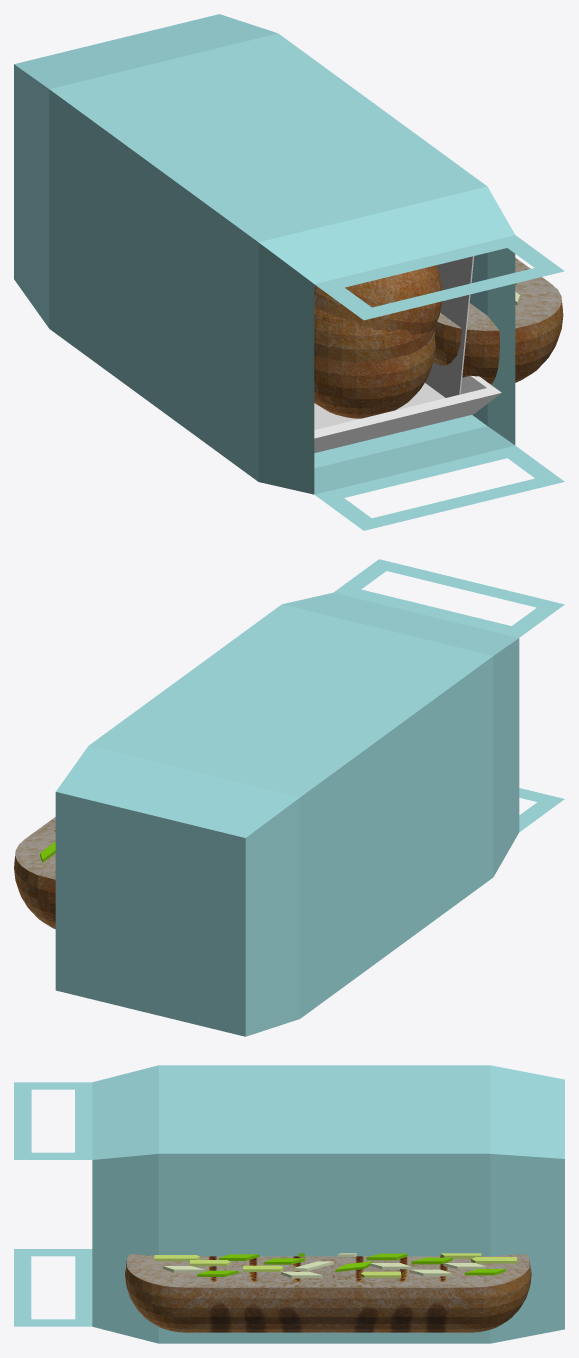
File: ShucoUltimate.fbx
3 views of the same model, one above another, from view 1: azimuth 30°, elevation 25°; view 2: azimuth 150°, elevation 25°; view 3: azimuth 270°, elevation 25° (orthographic). The views are drawn at different scales.
Visible parts, largest first — view 1: BolsaParaShuco.001, PanArriba, PanArriba.004, Plane.001, PanAbajo.002, PaperDoblado.001; view 2: BolsaParaShuco.001, PanArriba; view 3: BolsaParaShuco.001, PanArriba, Repollo.
Part boxes in pixels (left/top/right/bottom): BolsaParaShuco.001: left=14, top=14, right=564, bottom=530; PanArriba: left=384, top=257, right=563, bottom=412; PanArriba.004: left=314, top=307, right=434, bottom=418; Plane.001: left=314, top=375, right=501, bottom=452; PanAbajo.002: left=314, top=265, right=442, bottom=402; PaperDoblado.001: left=314, top=256, right=474, bottom=429; BolsaParaShuco.001: left=55, top=559, right=564, bottom=1036; PanArriba: left=14, top=817, right=55, bottom=929; BolsaParaShuco.001: left=14, top=1065, right=564, bottom=1343; PanArriba: left=125, top=1254, right=531, bottom=1332; Repollo: left=154, top=1253, right=516, bottom=1278.
Size of the model in its own units: 7.27 by 5.35 by 14.08.
